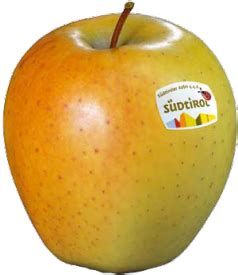apple: (3, 8, 236, 275)
